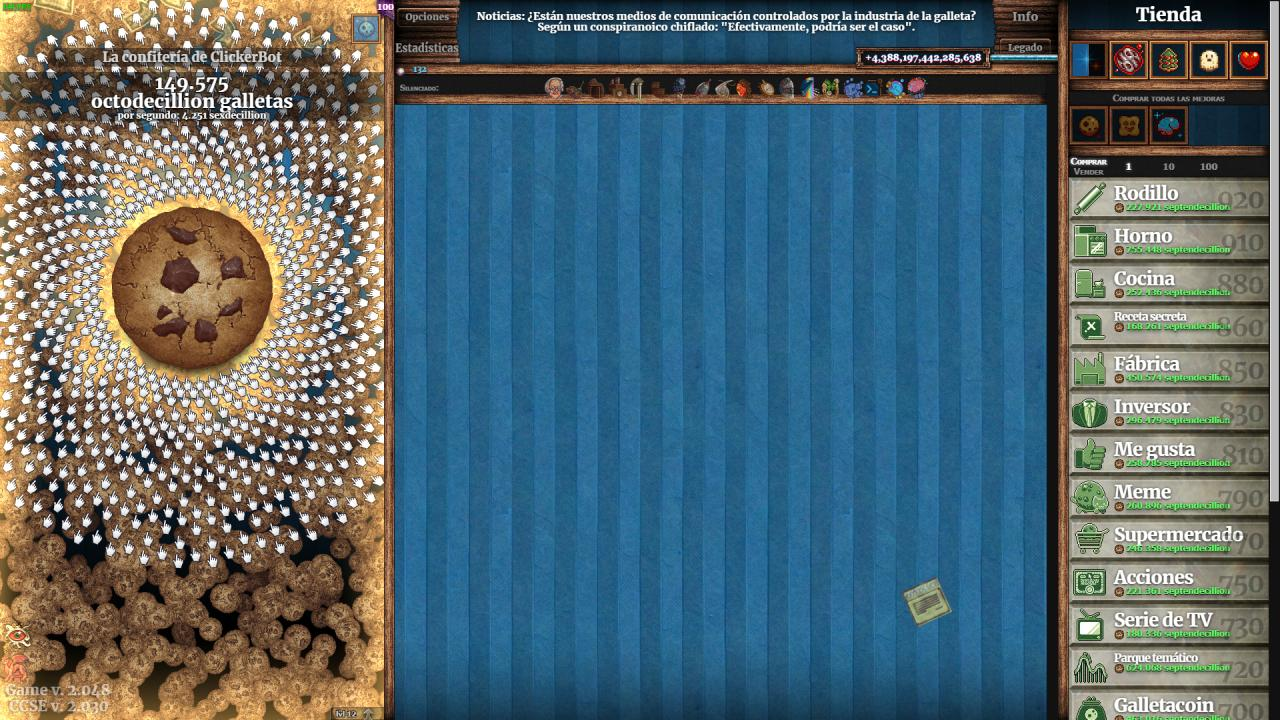GoldenCartridge: (902, 575, 954, 629)
